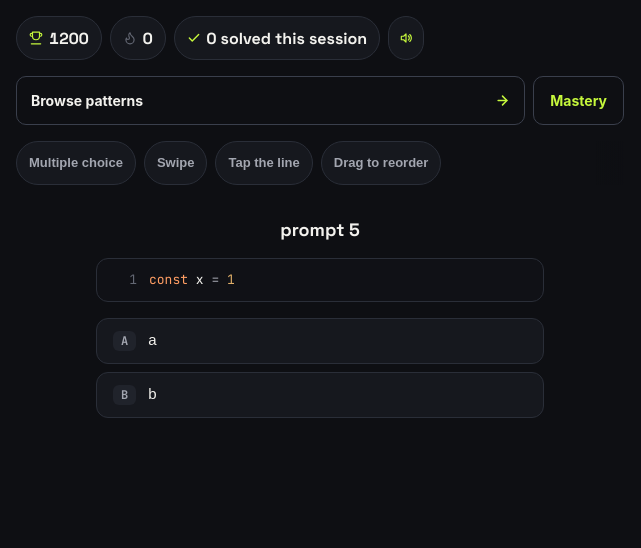
Scenario: PracticePage › does not scroll the puzzle card into view when it is already fully visible (todo 25 regression)
The image size is (641, 548).
expect the text "prompt 5" is shown: met, box [280,218,360,241]
Click the button "A a" at (125, 341), box [96,318,544,364]
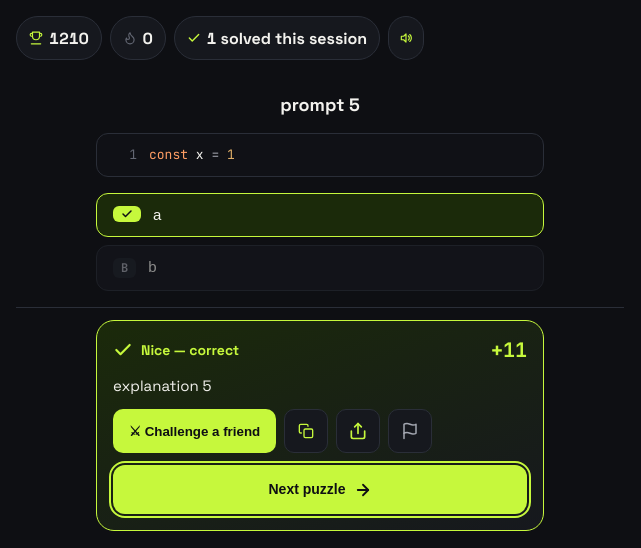
Click the button "Next puzzle" at (320, 490), box [113,465,527,514]
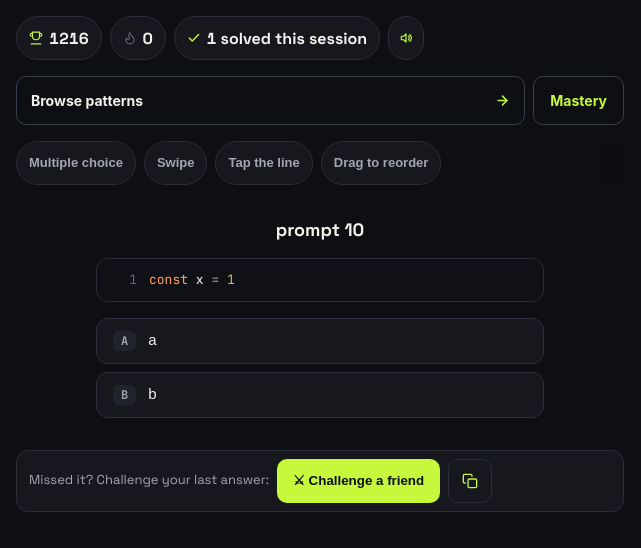
expect the message "Nice — correct +11 explanation 5 ⚔ Challenge a friend Next puzzle" is gone: met
